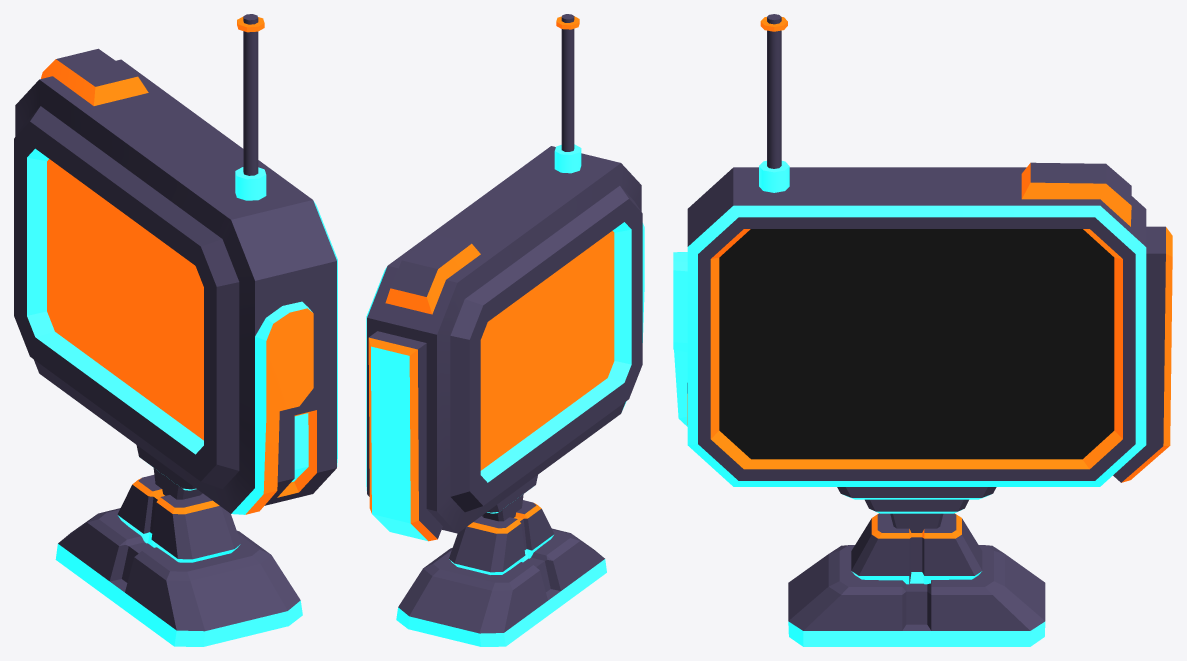
File: Board_News.fbx
3 views of the same model, side by side, from view 1: azimuth 30°, elevation 25°; view 2: azimuth 150°, elevation 25°; view 3: azimuth 270°, elevation 25° (orthographic). The views are drawn at different scales.
Parts seen in each view (by area): view 1: News; view 2: News; view 3: News.
Part boxes in pixels (x1,y1,x2,y2): News: [14, 14, 337, 646]; News: [366, 14, 644, 646]; News: [673, 14, 1172, 646].
Size of the model in its own units: 241 by 1121 by 848.
